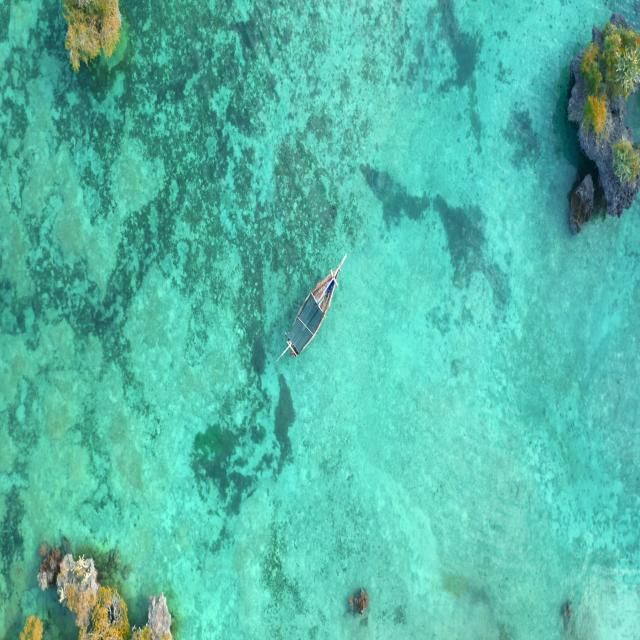ship: (282, 246, 348, 365)
